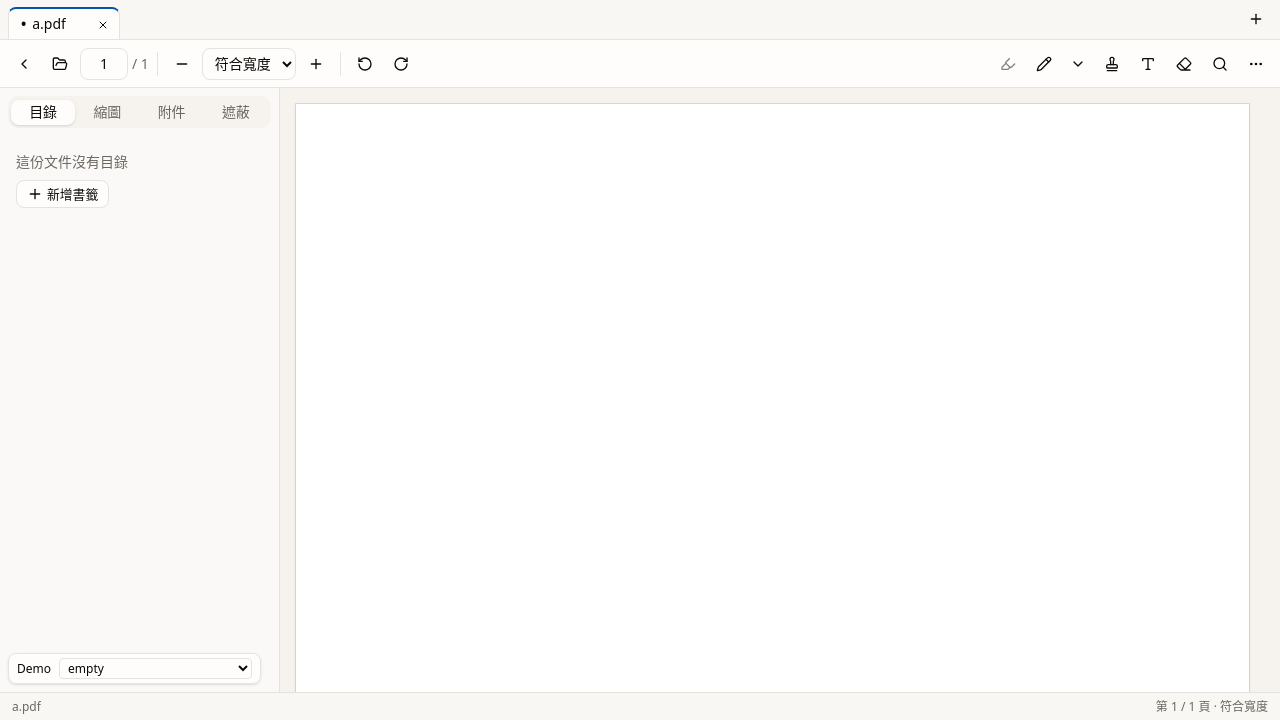
unsaved changes (B2-02) › keeps the tab when saving fails, and says why
Click the button named "關閉「a.pdf」" at point(103, 25), box [91,13,115,37]
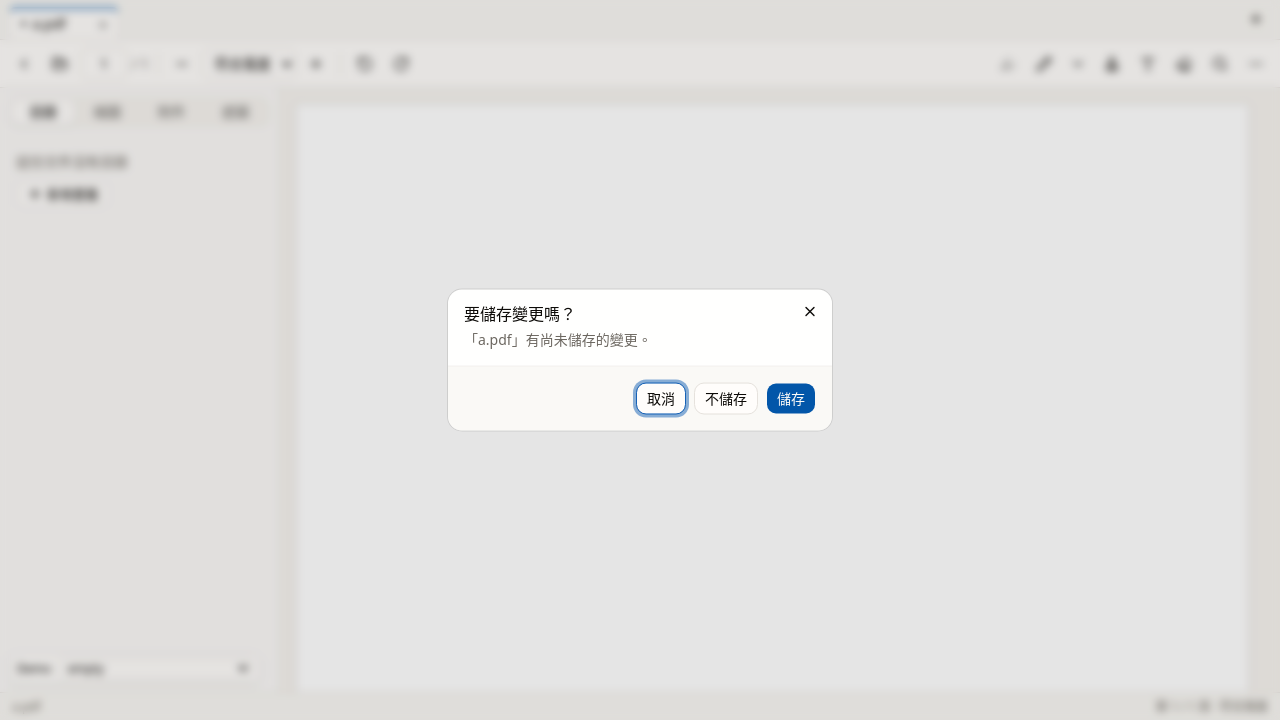
Click the button "儲存" at point(791, 398), box [766,382,816,414]
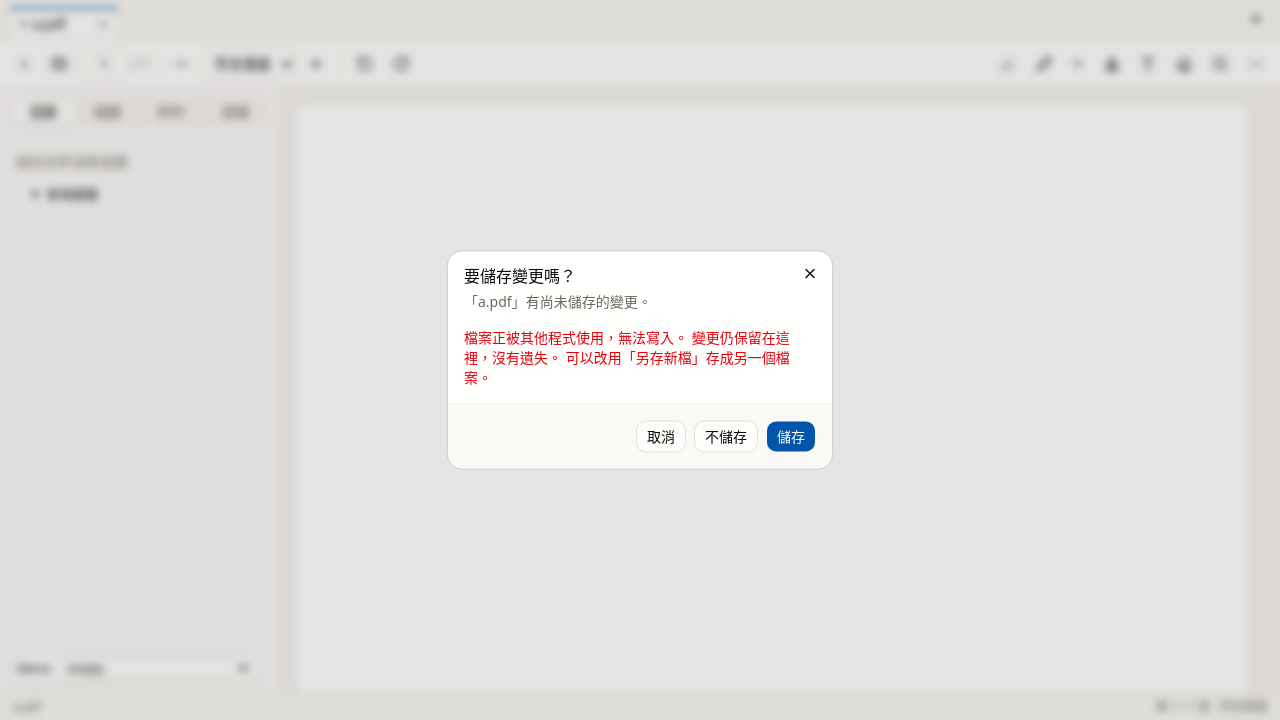
Now the message shows "檔案正被其他程式使用，無法寫入。", box [464,328,790,386]
